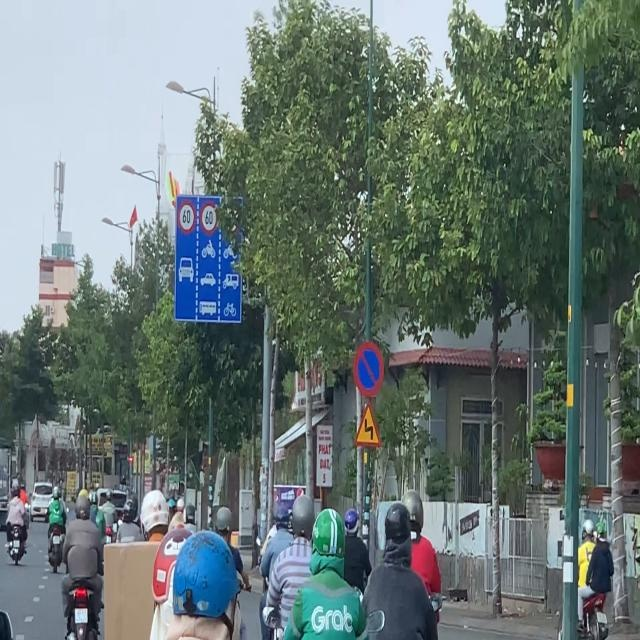bien_cam: (353, 342, 384, 398), (355, 403, 381, 447), (177, 201, 196, 234), (200, 202, 218, 234)
